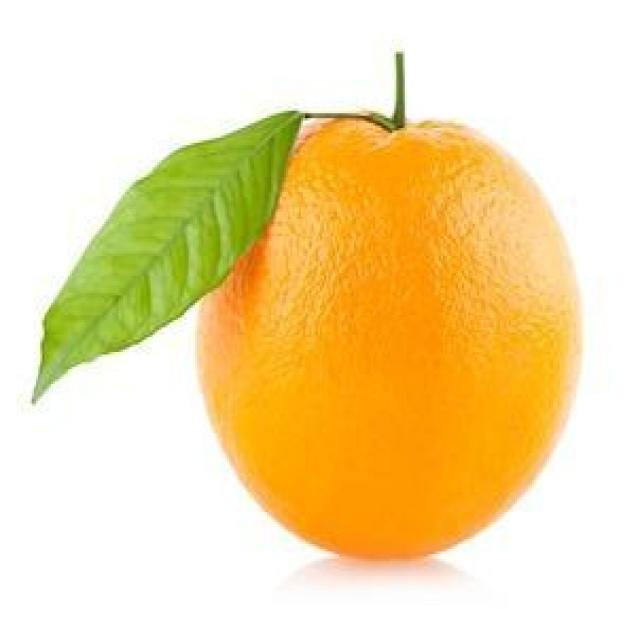Orange: (202, 121, 593, 574)
